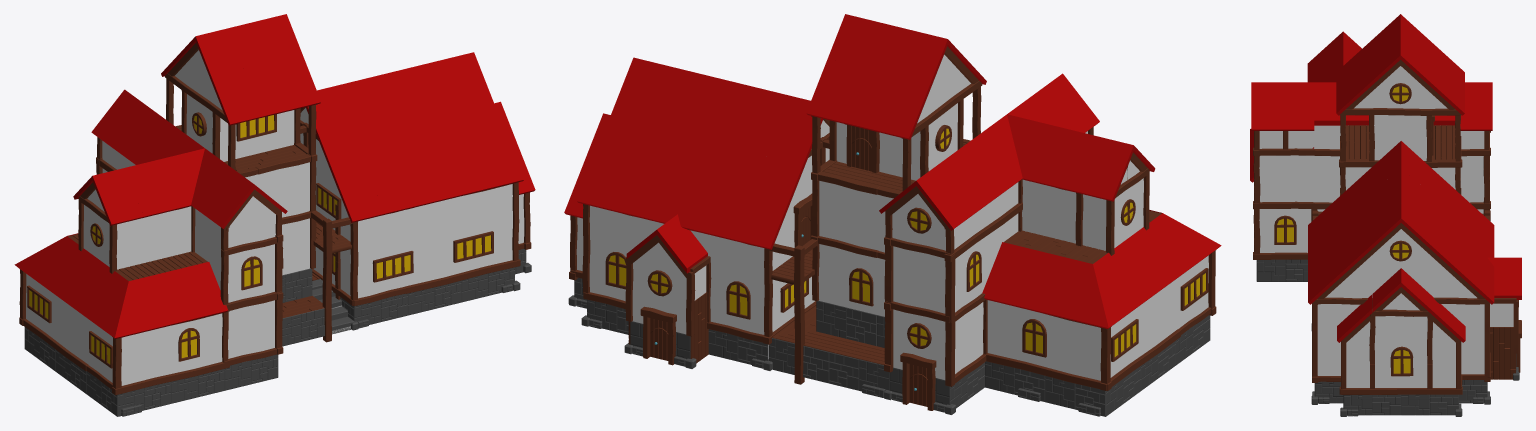
File: Testhouse2.fbx
3 renders of one model, left to right at view 1: azimuth 30°, elevation 25°; view 2: azimuth 150°, elevation 25°; view 3: azimuth 270°, elevation 25°, orthographic. The views are drawn at different scales.
Visible parts, largest first — view 1: group3; view 2: group3; view 3: group3.
Boxes of the visible parts, x1,y1,x2,y2 form: group3: (14, 14, 535, 416); group3: (564, 14, 1221, 416); group3: (1250, 14, 1521, 416).
Size of the model in its own units: 17.44 by 10.39 by 9.46.
